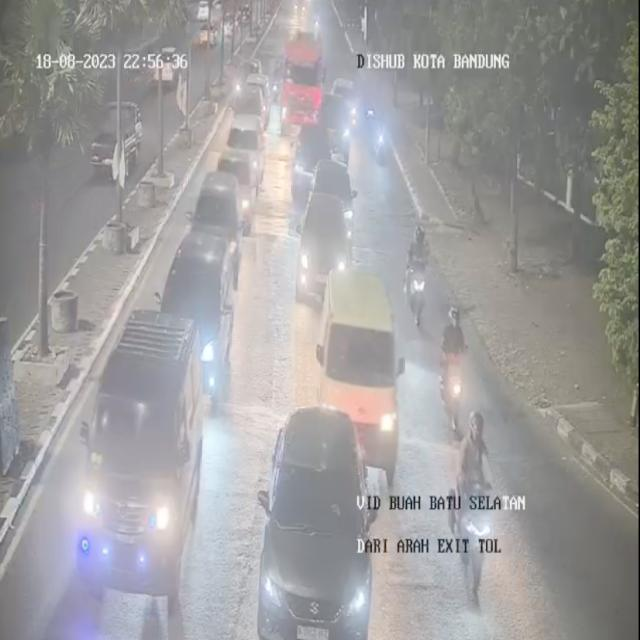cars: (70, 299, 202, 593), (260, 400, 374, 639), (320, 266, 405, 466), (158, 225, 232, 362), (297, 194, 350, 310), (188, 168, 242, 272), (283, 28, 321, 134), (312, 154, 360, 231), (291, 116, 331, 194), (218, 145, 256, 221), (322, 78, 354, 157), (231, 111, 266, 174), (235, 86, 268, 132)
motorcycle: (454, 412, 496, 559), (438, 303, 472, 437), (400, 225, 430, 327), (370, 112, 390, 160)
